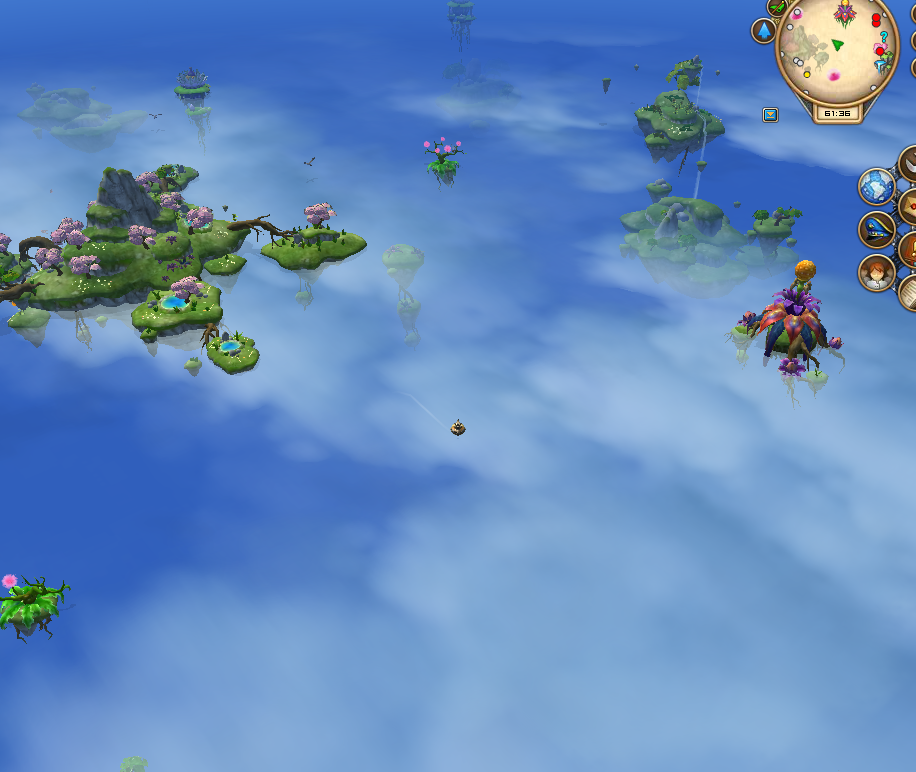dandelion-full: (0, 567, 75, 647), (417, 132, 467, 190)
